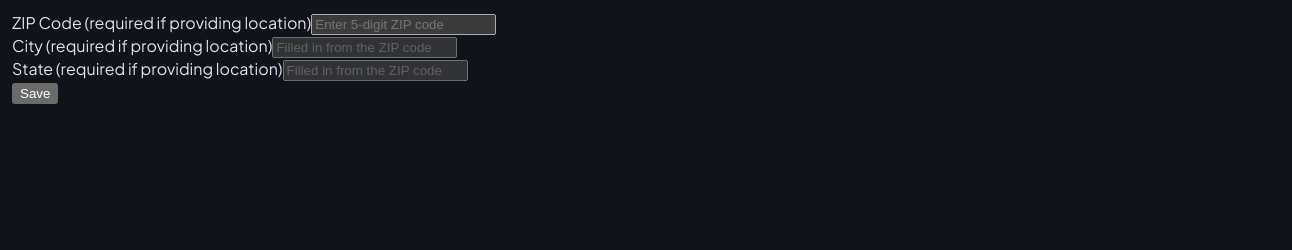
Scenario: LocationFields › clears the ZIP error after "No, change ZIP"
Type "27601" into the field labelled "ZIP Code (required if providing location)" at (404, 24), box [311,14,496,35]
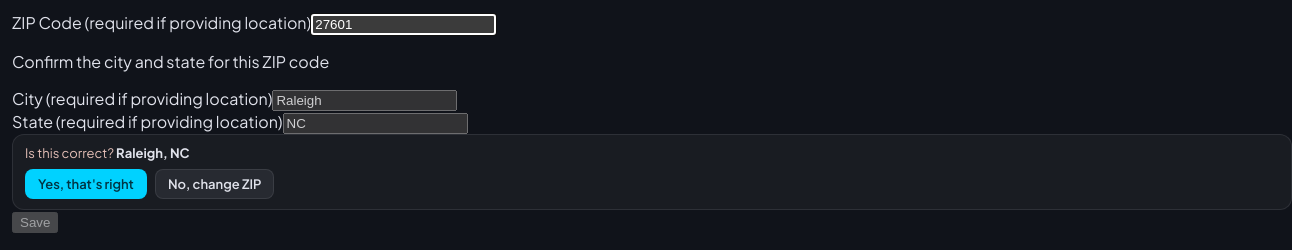
Now the button "Yes, that's right" is shown, box [25,169,147,199]
Press Enter
Now the text "Confirm the city and state for this ZIP code" is shown, box [12,51,329,72]
Click the button "No, change ZIP" at (215, 184), box [155,169,274,199]
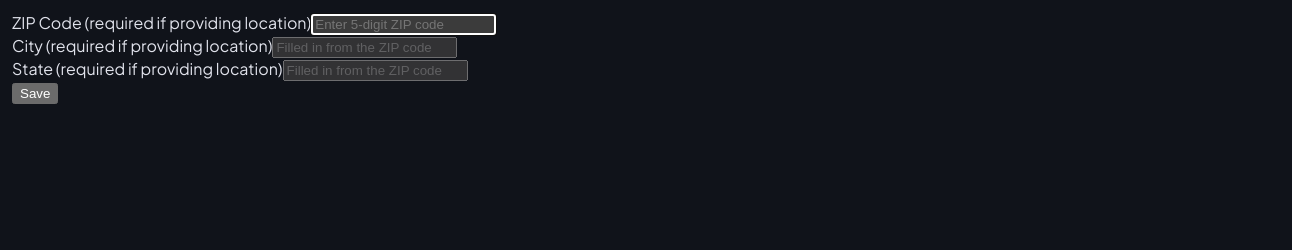
Now the text "Confirm the city and state for this ZIP code" is gone
